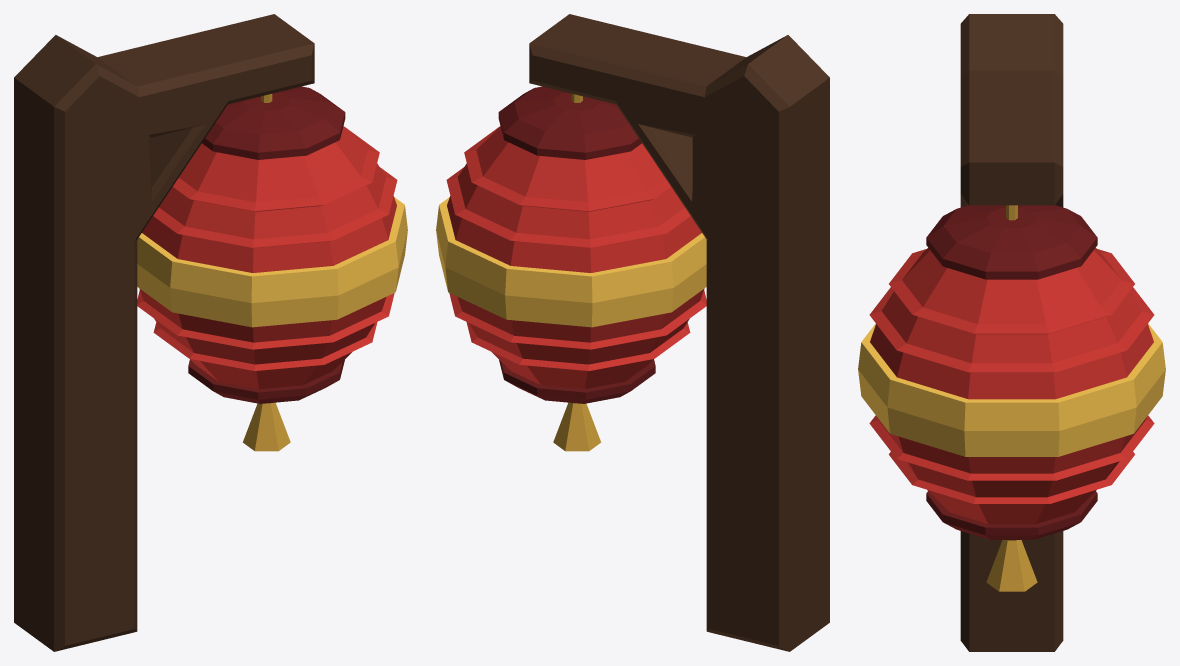
The model's file is lantern-post.glb.
3 views of the same model, side by side, from view 1: azimuth 30°, elevation 25°; view 2: azimuth 150°, elevation 25°; view 3: azimuth 270°, elevation 25° (orthographic). The views are drawn at different scales.
Parts seen in each view (by area): view 1: Post, Lantern, Glow, Caps, Tassel; view 2: Post, Lantern, Glow, Caps, Tassel; view 3: Lantern, Post, Glow, Caps, Tassel.
Boxes of the visible parts, <box> form: Post: <box>14,14,314,651</box>; Lantern: <box>137,126,397,389</box>; Glow: <box>137,197,407,327</box>; Caps: <box>188,86,345,403</box>; Tassel: <box>242,94,290,451</box>; Post: <box>529,14,829,651</box>; Lantern: <box>446,126,706,389</box>; Glow: <box>436,197,706,327</box>; Caps: <box>498,86,655,403</box>; Tassel: <box>553,94,601,451</box>; Lantern: <box>869,248,1154,524</box>; Post: <box>960,14,1063,651</box>; Glow: <box>858,323,1165,456</box>; Caps: <box>926,205,1097,539</box>; Tassel: <box>986,205,1037,591</box>.
Bounding box in the file's own units: 5.06 × 7.95 × 3.6.
